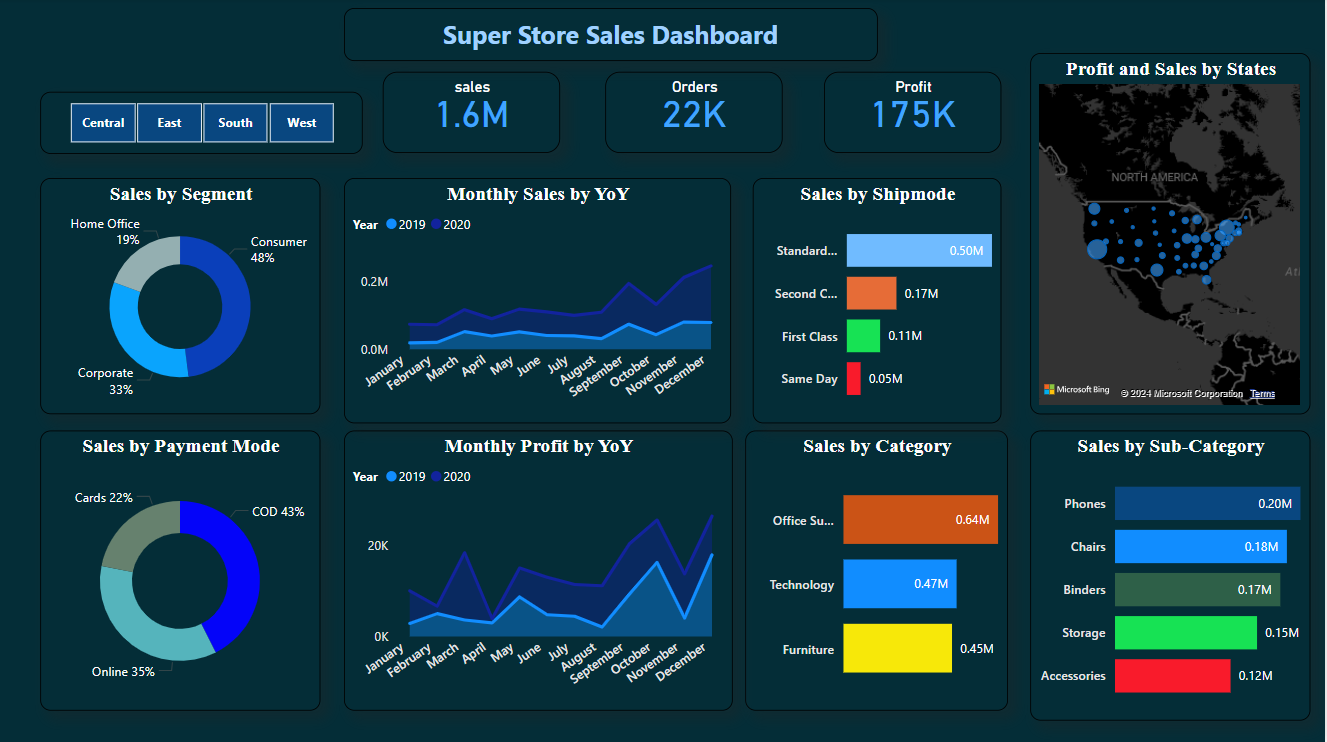

The page's visual inventory and layout, read from the dashboard file:
{"tool":"powerbi","page":{"name":"dashboard","canvas":[1280,720],"ordinal":0},"visuals":[{"type":"clusteredBarChart","title":" Sales by Category","fields":{"Category":["SuperStore_Sales_Dataset.Category"],"Y":["Sum(SuperStore_Sales_Dataset.Sales)"]},"box":[720.2,417.4,253.4,270.2],"z":0},{"type":"clusteredBarChart","title":" Sales by Sub-Category","fields":{"Category":["SuperStore_Sales_Dataset.Sub-Category"],"Y":["Sum(SuperStore_Sales_Dataset.Sales)"]},"box":[995.3,417.4,270.2,279.9],"z":1000},{"type":"clusteredBarChart","title":" Sales by Shipmode","fields":{"Y":["Sum(SuperStore_Sales_Dataset.Sales)"],"Category":["SuperStore_Sales_Dataset.Ship Mode"]},"box":[727.5,173.7,240.1,236.5],"z":2000},{"type":"stackedAreaChart","title":"Monthly Sales by YoY","fields":{"Y":["Sum(SuperStore_Sales_Dataset.Sales)"],"Series":["SuperStore_Sales_Dataset.Order Date.Variation.Date Hierarchy.Year"],"Category":["SuperStore_Sales_Dataset.Order Date.Variation.Date Hierarchy.Month","SuperStore_Sales_Dataset.Order Date.Variation.Date Hierarchy.Day"]},"box":[333,173.7,374,236.5],"z":3000},{"type":"stackedAreaChart","title":"Monthly Profit by YoY","fields":{"Series":["SuperStore_Sales_Dataset.Order Date.Variation.Date Hierarchy.Year"],"Category":["SuperStore_Sales_Dataset.Order Date.Variation.Date Hierarchy.Month","SuperStore_Sales_Dataset.Order Date.Variation.Date Hierarchy.Day"],"Y":["Sum(SuperStore_Sales_Dataset.Profit)"]},"box":[332.5,417.5,375,270],"z":4000},{"type":"map","title":"Profit and Sales by States","fields":{"Category":["SuperStore_Sales_Dataset.State"],"Size":["Sum(SuperStore_Sales_Dataset.Sales)"]},"box":[995.3,53.1,270.2,348.7],"z":5000},{"type":"donutChart","title":" Sales by Segment","fields":{"Category":["SuperStore_Sales_Dataset.Segment"],"Y":["Sum(SuperStore_Sales_Dataset.Sales)"]},"box":[39.8,173.7,270.2,228],"z":6000},{"type":"donutChart","title":" Sales by Payment Mode","fields":{"Y":["Sum(SuperStore_Sales_Dataset.Sales)"],"Category":["SuperStore_Sales_Dataset.Payment Mode"]},"box":[40,417.5,270,270],"z":7000},{"type":"slicer","fields":{"Values":["SuperStore_Sales_Dataset.Region"]},"box":[40,90,311.2,60],"z":8000},{"type":"textbox","box":[332.5,10,515,51.2],"z":9000},{"type":"card","title":"sales","fields":{"Values":["Sum(SuperStore_Sales_Dataset.Sales)"]},"box":[370,71.2,171.2,78.8],"z":10000},{"type":"card","title":"Orders","fields":{"Values":["Sum(SuperStore_Sales_Dataset.Quantity)"]},"box":[585,71.2,171.2,78.8],"z":11000},{"type":"card","title":"Profit","fields":{"Values":["Sum(SuperStore_Sales_Dataset.Profit)"]},"box":[796.2,71.2,171.2,78.8],"z":12000}]}

Visuals, with their boxes in screenshot pixels (x1, y1, x2, y2), scaled from the page's 1280x720 canvas onto the 1327x742 screenshot:
" Sales by Category" clusteredBarChart: rect(747, 430, 1009, 709)
" Sales by Sub-Category" clusteredBarChart: rect(1032, 430, 1312, 719)
" Sales by Shipmode" clusteredBarChart: rect(754, 179, 1003, 423)
"Monthly Sales by YoY" stackedAreaChart: rect(345, 179, 733, 423)
"Monthly Profit by YoY" stackedAreaChart: rect(345, 430, 733, 709)
"Profit and Sales by States" map: rect(1032, 55, 1312, 414)
" Sales by Segment" donutChart: rect(41, 179, 321, 414)
" Sales by Payment Mode" donutChart: rect(41, 430, 321, 709)
slicer - SuperStore_Sales_Dataset.Region: rect(41, 93, 364, 155)
textbox: rect(345, 10, 879, 63)
"sales" card: rect(384, 73, 561, 155)
"Orders" card: rect(606, 73, 784, 155)
"Profit" card: rect(825, 73, 1003, 155)
